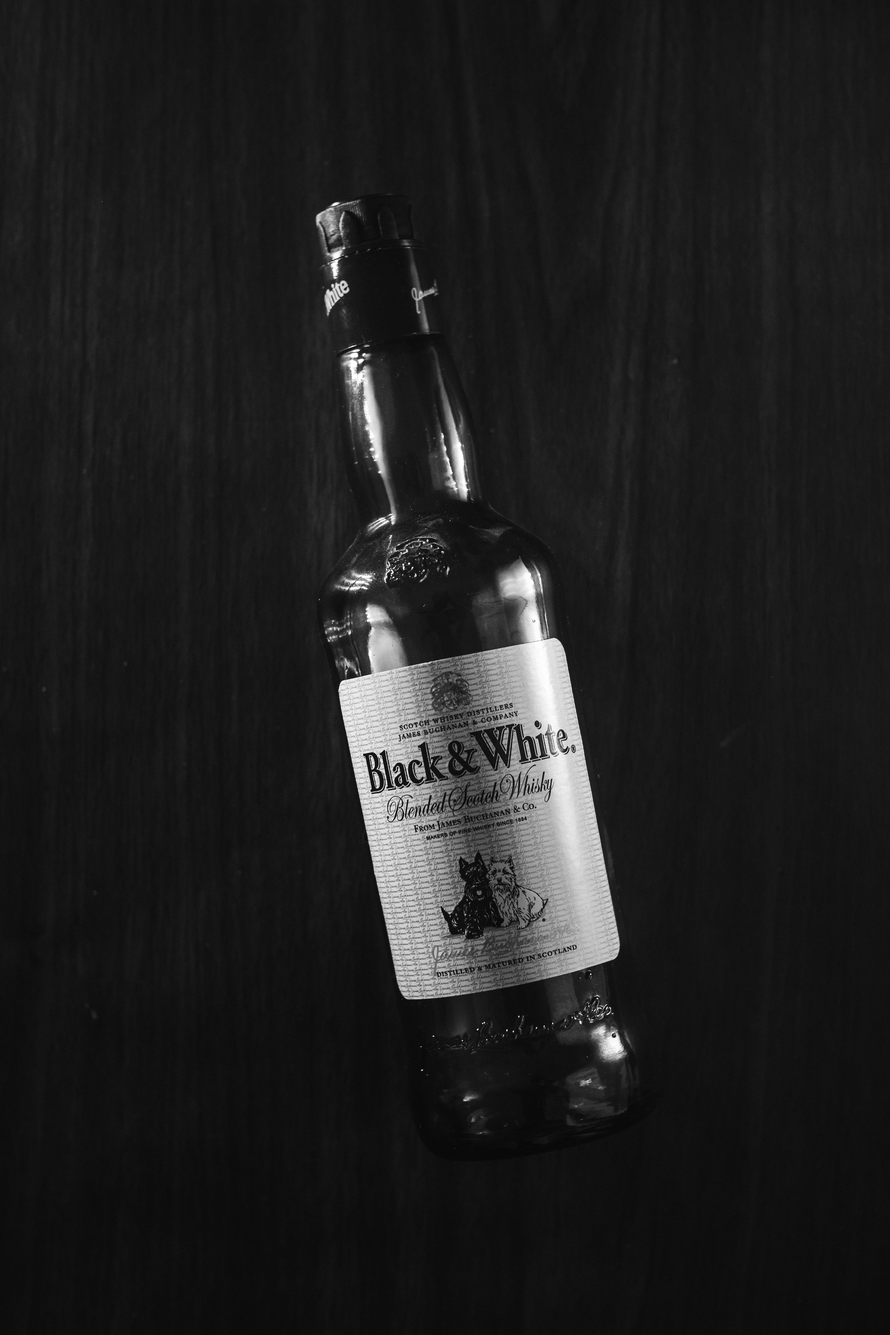Bottle-Detection: (223, 131, 710, 1206)
